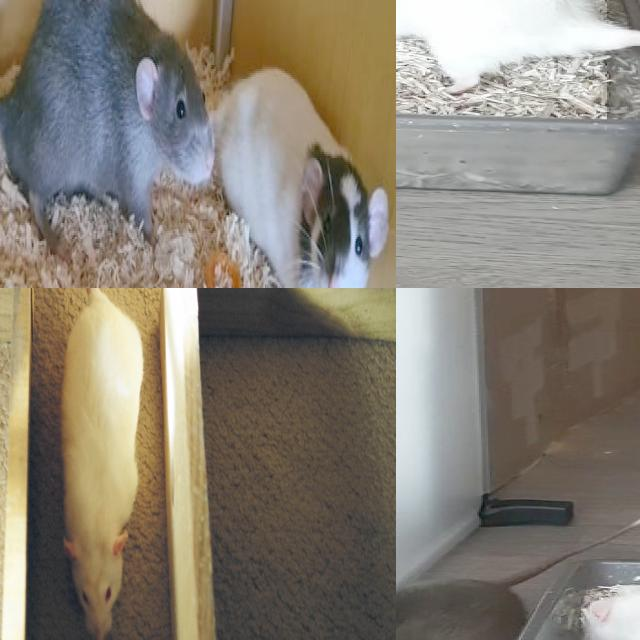rat: (0, 0, 214, 240), (222, 76, 391, 288), (57, 293, 141, 637), (396, 0, 604, 94), (396, 573, 530, 640)
